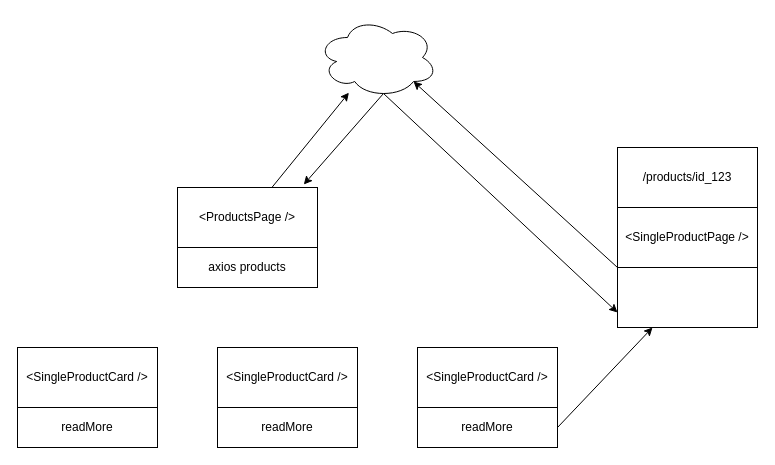
Some shapes in this 775 by 465 pixel diagram are drawn without their labels. Here are the shapes that lost their labels. From the top down, the centre of each, then its label:
At pixel 377 57: "DB cloud".
At pixel 687 297: "id_123".
